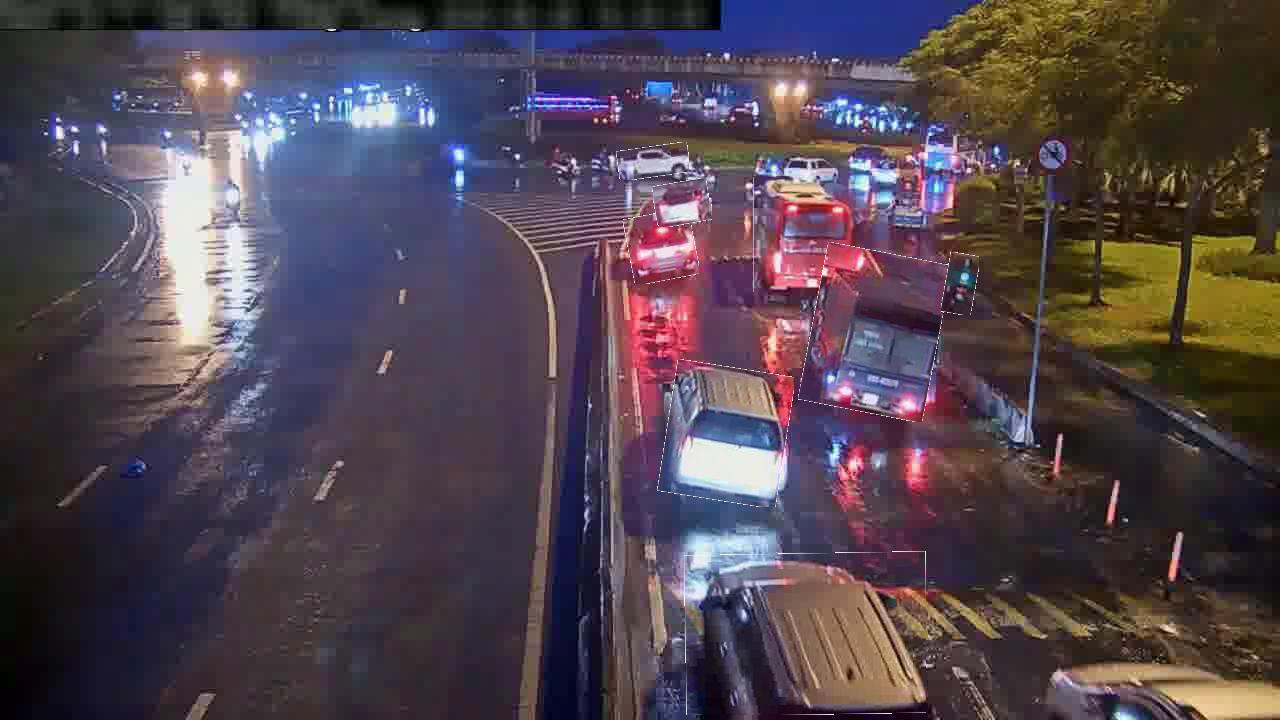14: (753, 177, 856, 293)
8: (805, 248, 945, 418)
container: (685, 552, 927, 715), (662, 363, 791, 504), (626, 210, 698, 283), (654, 180, 712, 226), (617, 145, 690, 179)
motorbike: (944, 253, 978, 315)
